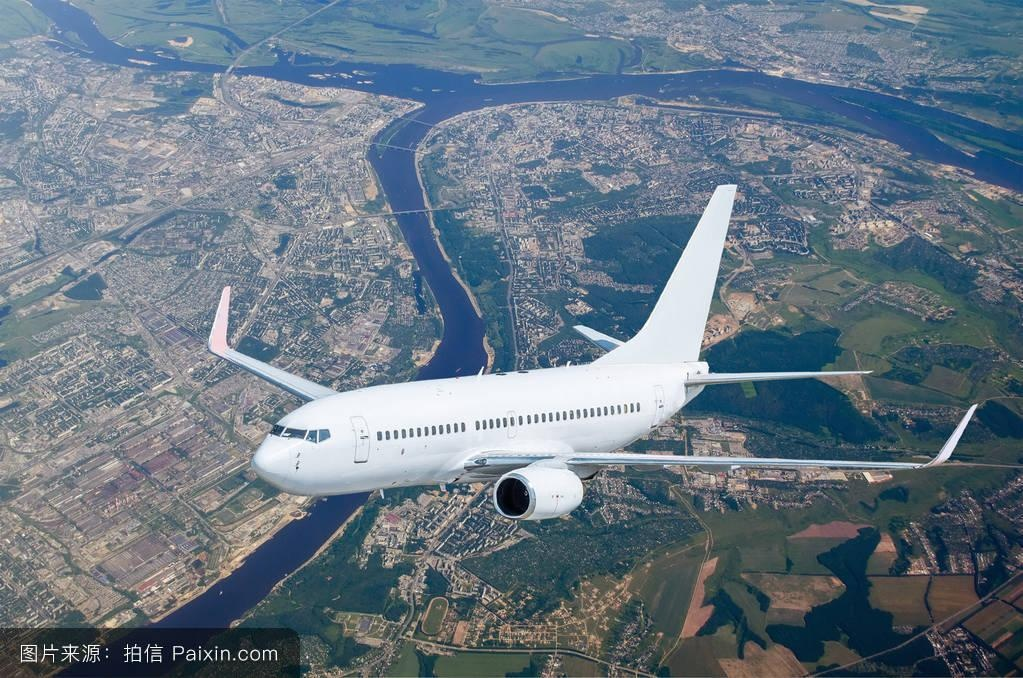airplane: (203, 182, 978, 521)
